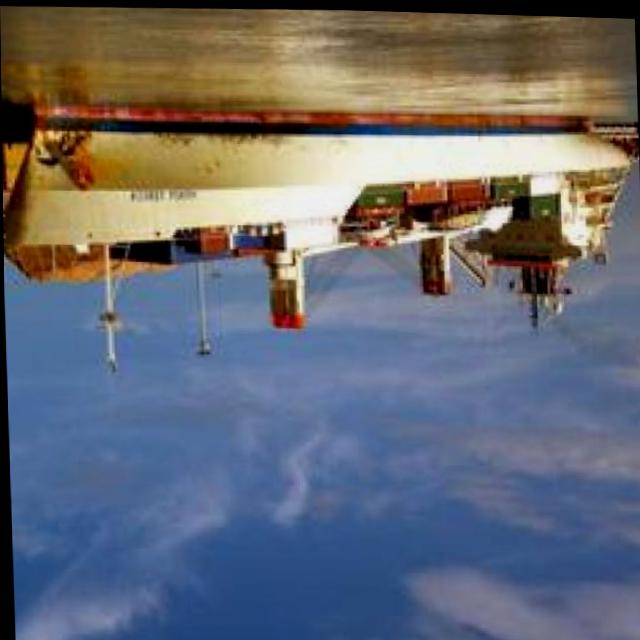ship2: (3, 103, 637, 373)
